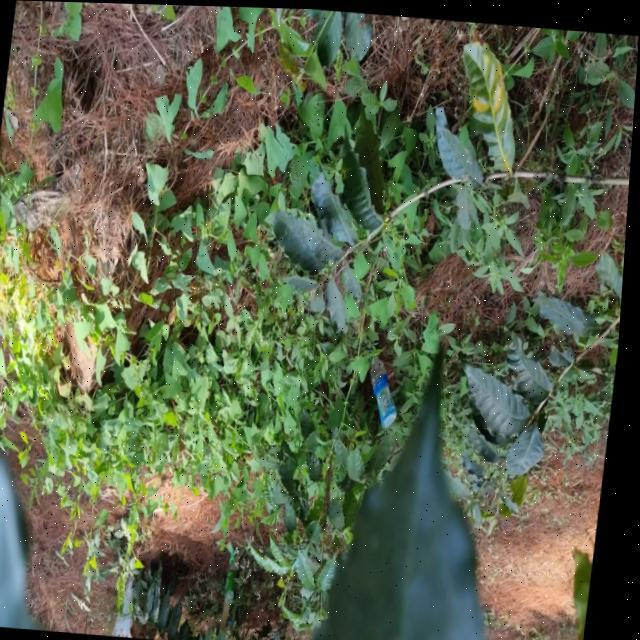leaves: (459, 34, 523, 177), (456, 349, 537, 446)
